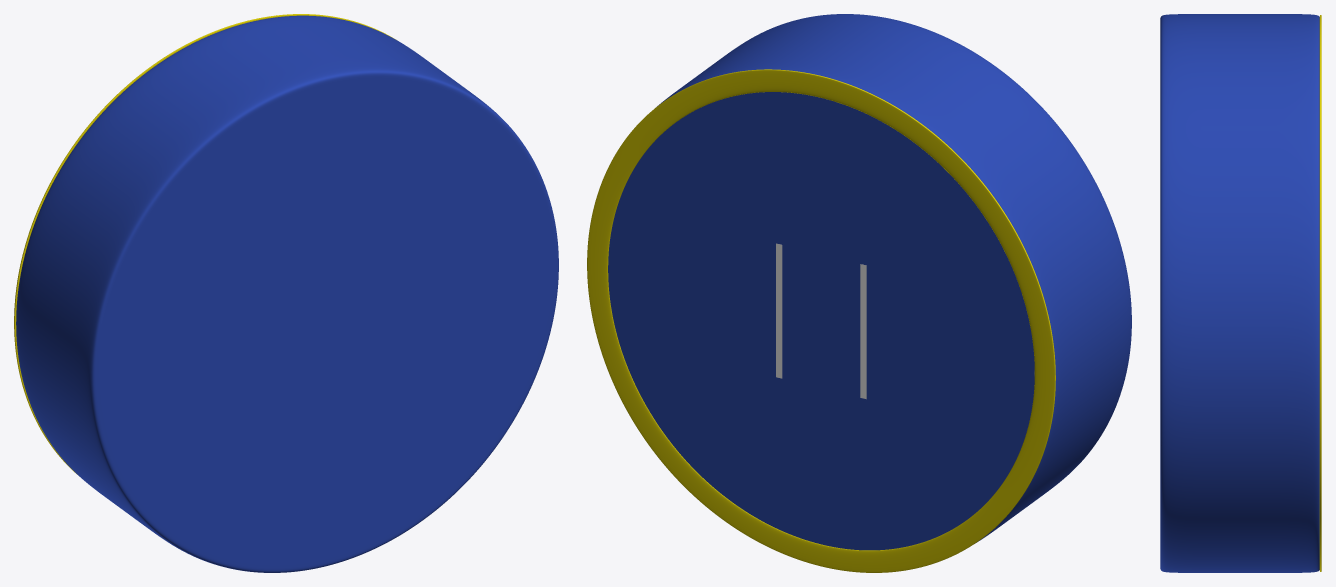
The model's file is sumo ring (1).fbx.
The picture shows the model from 3 angles, left to right: view 1: azimuth 30°, elevation 25°; view 2: azimuth 150°, elevation 25°; view 3: azimuth 270°, elevation 25°; orthographic projection. The views are drawn at different scales.
Visible parts, largest first — view 1: Circle, Cylinder; view 2: Circle, Cylinder, Cube.001; view 3: Circle, Cylinder.
Boxes of the visible parts, x1,y1,x2,y2 form: Circle: (16,15,558,572); Cylinder: (14,14,395,474); Circle: (608,14,1131,550); Cylinder: (587,69,1055,572); Cube.001: (776,243,866,399); Circle: (1160,14,1319,572); Cylinder: (1319,15,1321,571).
Size of the model in its own units: 2222 by 2222 by 642.
